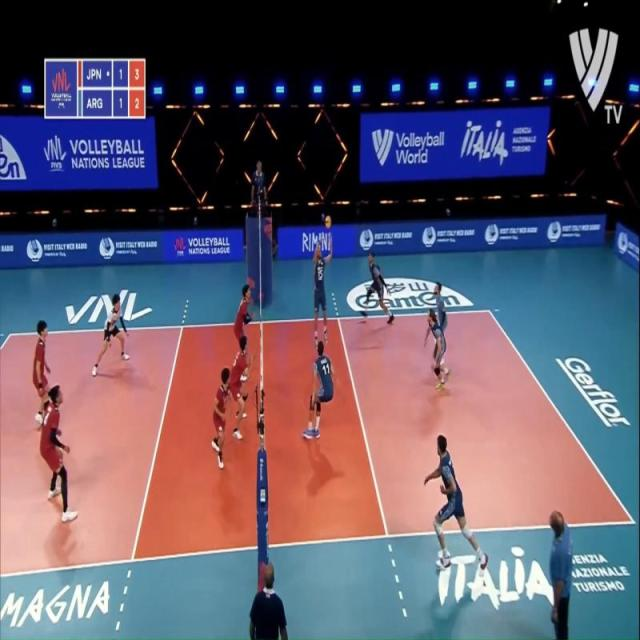volleyball: (324, 215, 332, 230)
